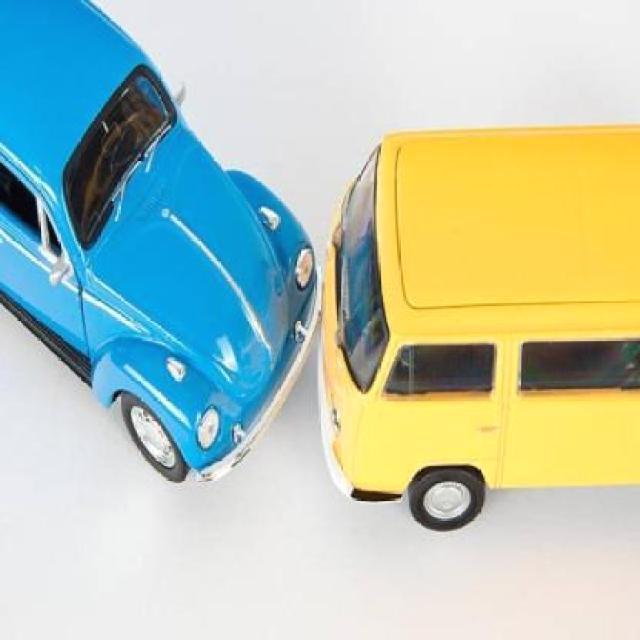car: (1, 1, 319, 478), (318, 134, 640, 531)
